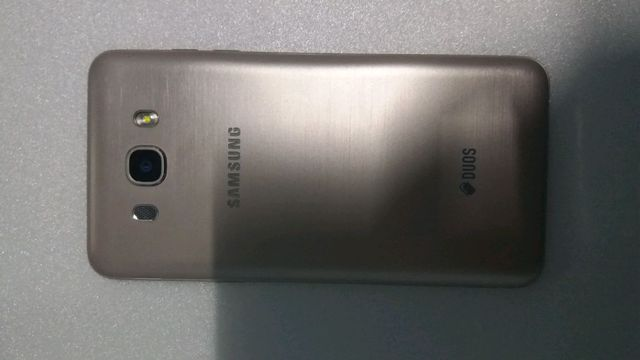Phone: (84, 46, 554, 290)
